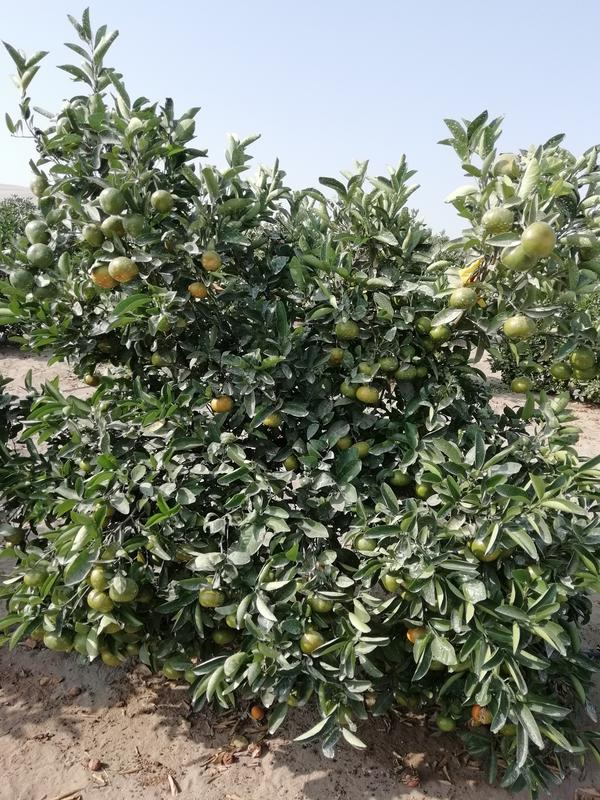mandarina naranja: (211, 394, 235, 413), (189, 282, 209, 298)
mandarina verde: (523, 222, 556, 260), (569, 230, 598, 261), (482, 208, 514, 232), (99, 187, 127, 214), (504, 315, 536, 338), (108, 256, 137, 281), (85, 587, 112, 613), (26, 242, 55, 266), (122, 211, 150, 234), (25, 219, 50, 243), (450, 289, 478, 310), (571, 346, 595, 370), (501, 246, 526, 269), (113, 580, 138, 602), (152, 189, 174, 213), (199, 587, 224, 608), (301, 631, 323, 654), (125, 213, 148, 235), (83, 222, 104, 246), (9, 269, 35, 288), (44, 634, 73, 651), (551, 358, 571, 382), (356, 385, 381, 403), (90, 567, 112, 587), (335, 322, 359, 340), (311, 594, 333, 613), (201, 250, 220, 270), (511, 376, 533, 393), (396, 364, 417, 381), (431, 326, 452, 340), (355, 440, 370, 458), (438, 717, 455, 732), (380, 358, 398, 371)
